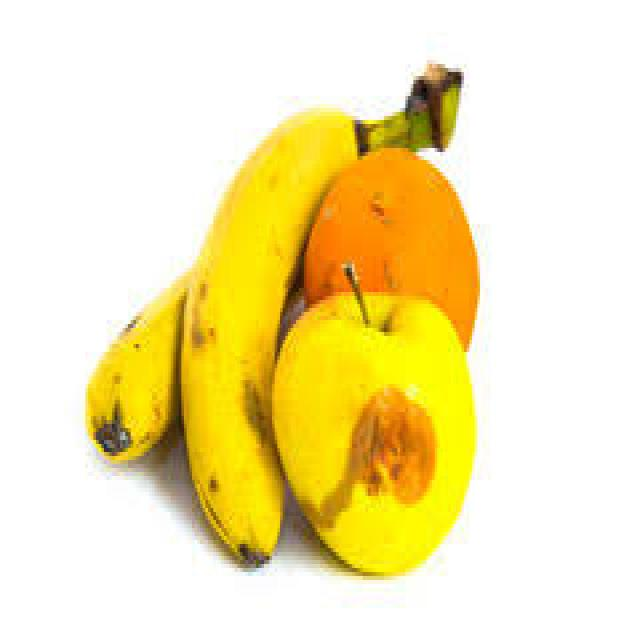organic waste: (176, 60, 461, 568), (267, 260, 472, 580), (83, 252, 301, 456), (302, 140, 478, 352)
